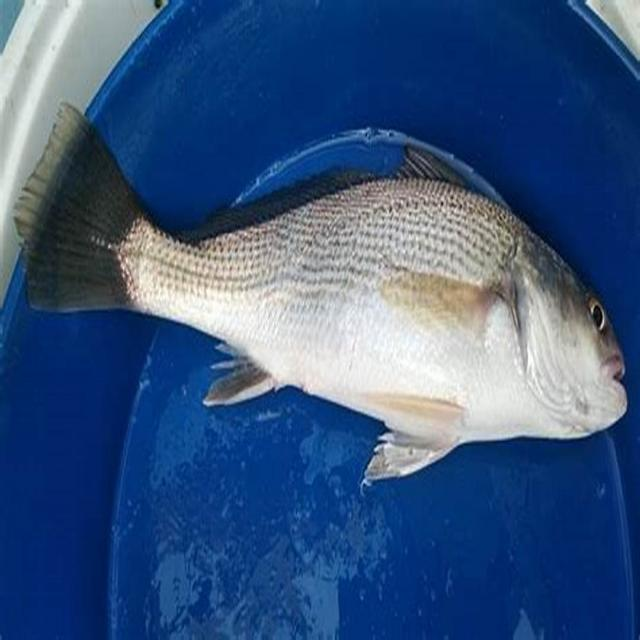Healthy Fish: (0, 96, 638, 485)
